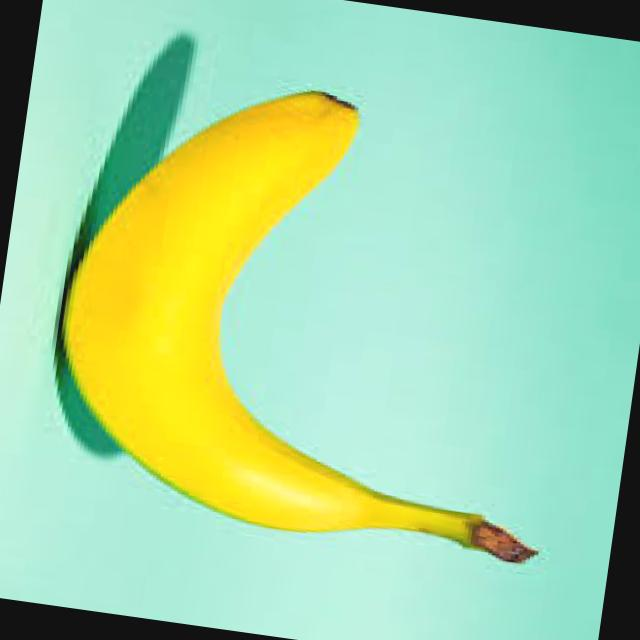Platano: (33, 49, 608, 570)
